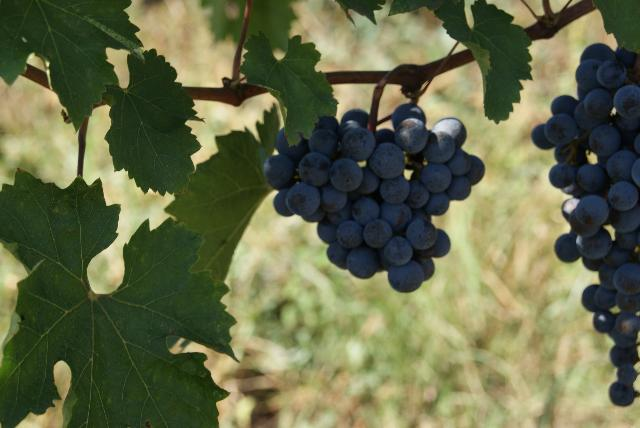grapes: (264, 104, 485, 292), (531, 44, 640, 406)
